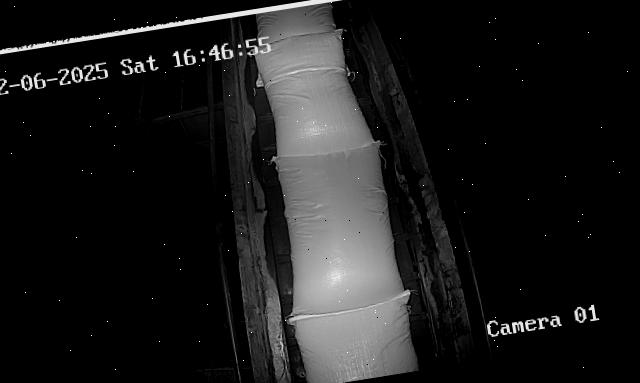bag: (266, 140, 408, 316), (250, 26, 376, 164), (287, 289, 423, 383), (247, 1, 351, 88)
